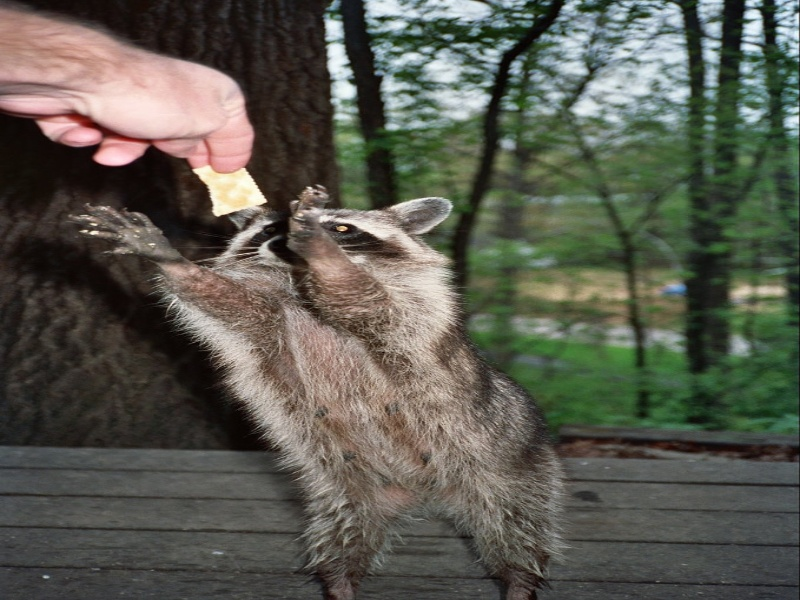raccoon: (67, 180, 569, 596)
